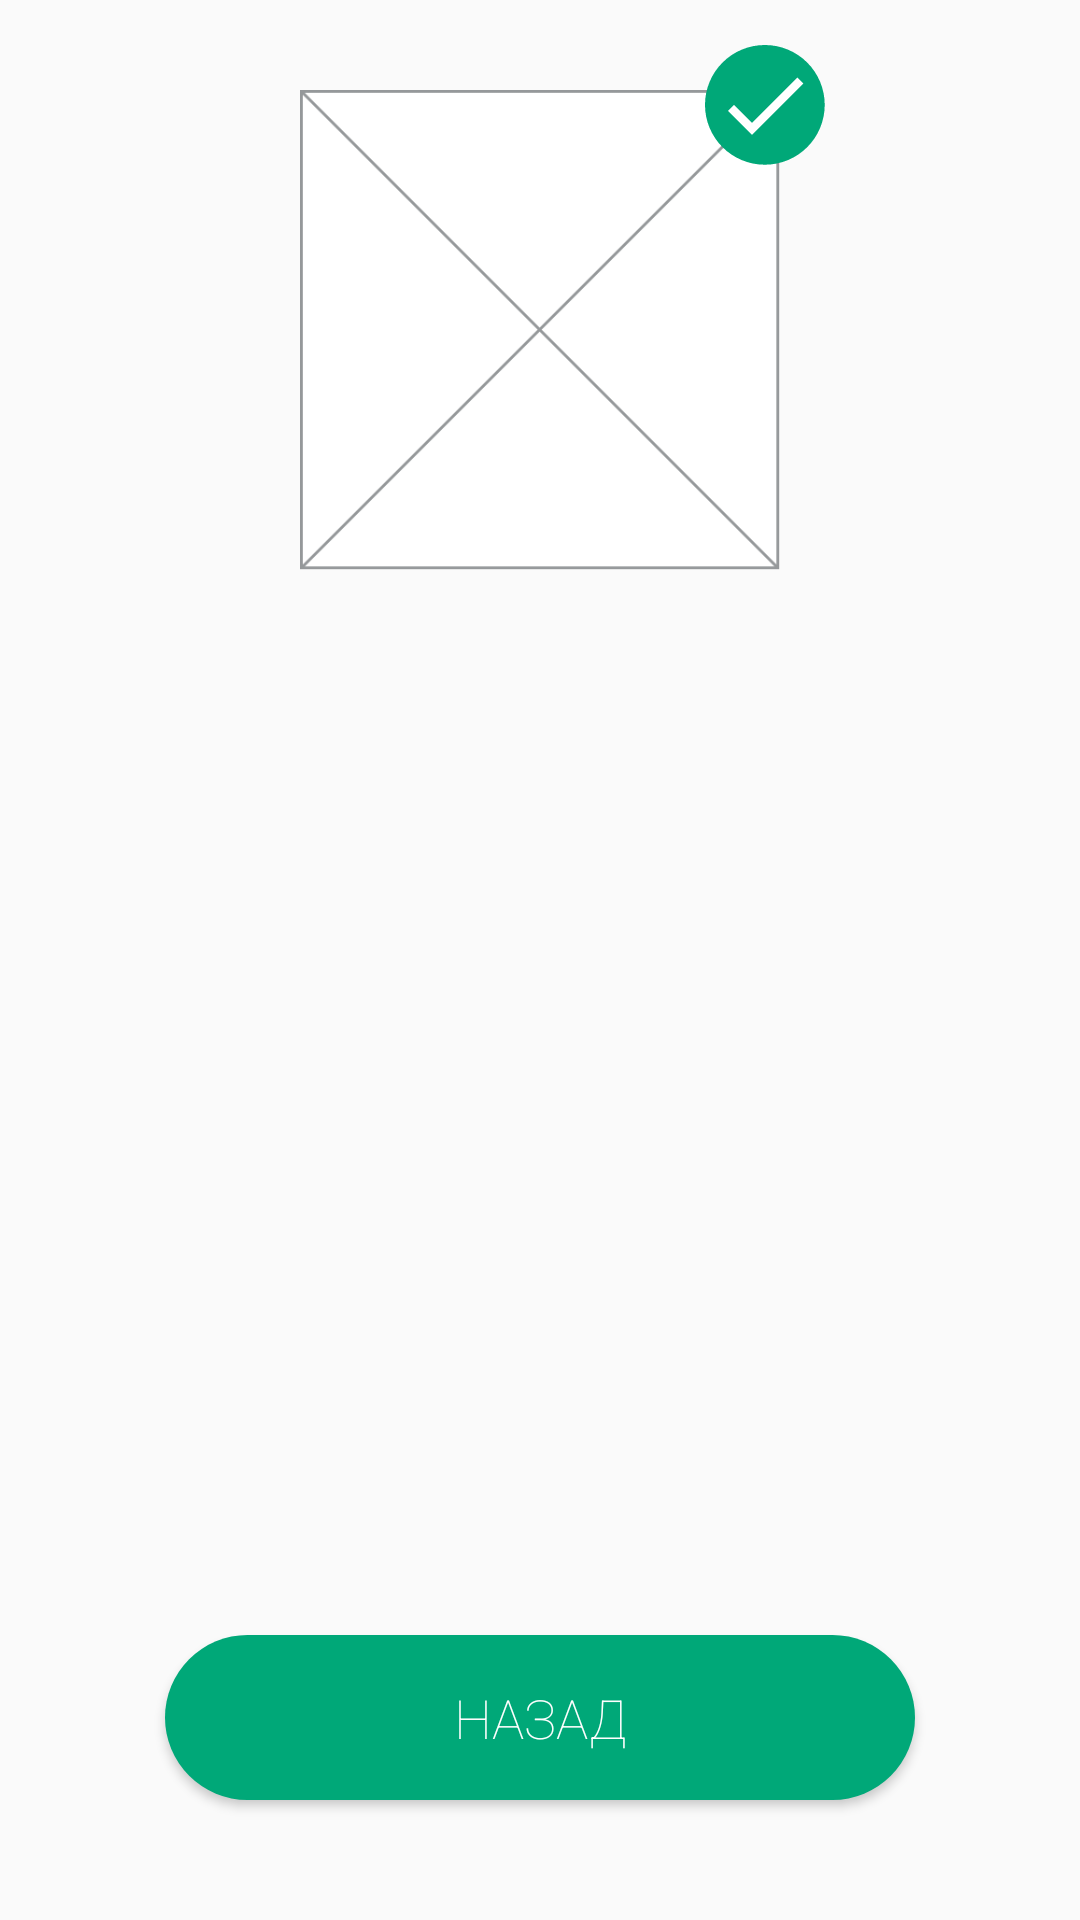

Screen size 1080 × 1920. Icon name, then its box in pixels as (x1, y1, x2, y2):
complete: (705, 45, 825, 165)
